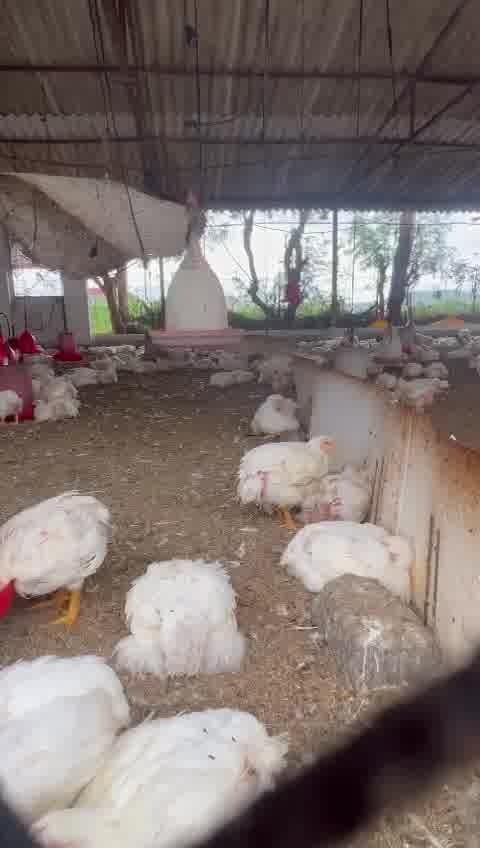AbNormal: (124, 562, 247, 679), (281, 525, 410, 577), (250, 393, 299, 433)
Normal: (12, 489, 112, 616), (234, 430, 340, 527)
